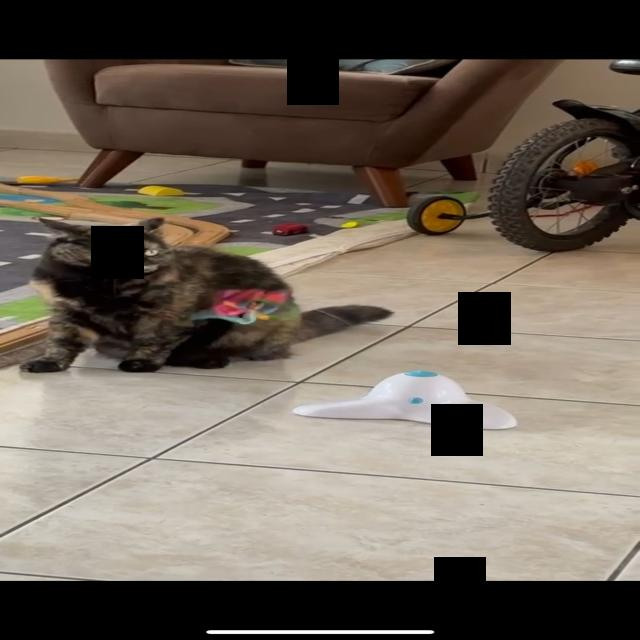authorized: (19, 216, 393, 373)
